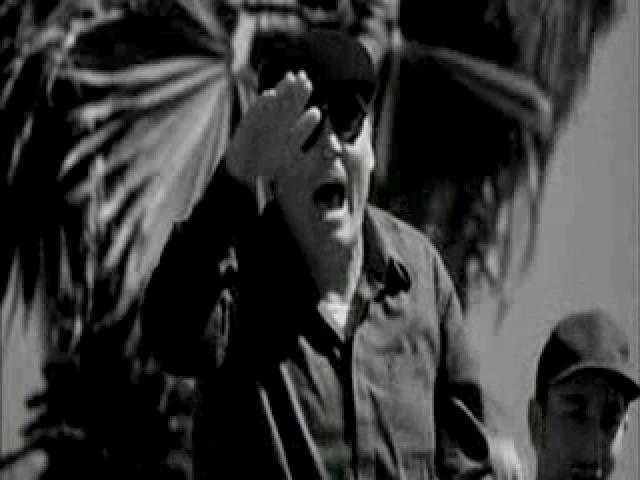T: (152, 28, 521, 478)
